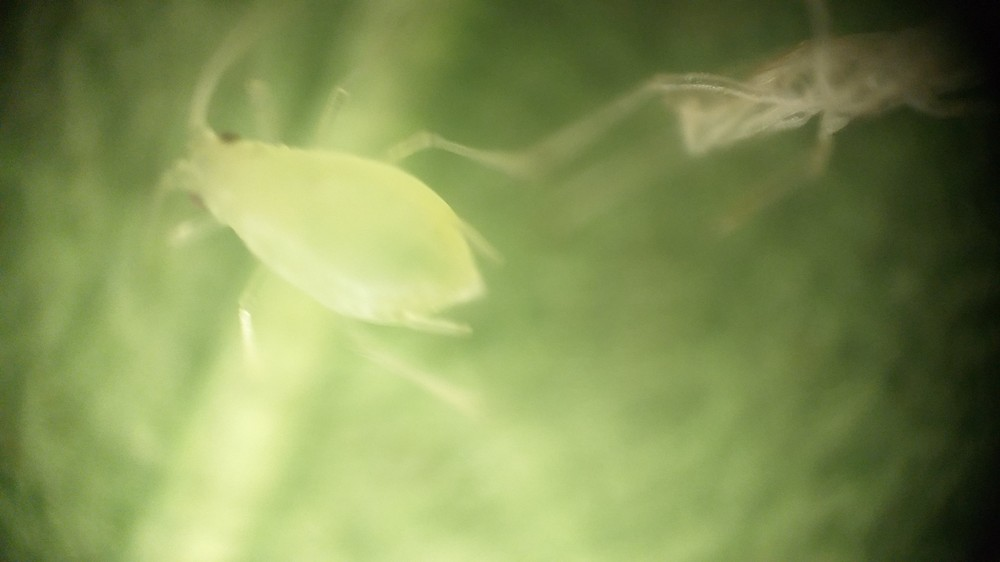Pulgon: (92, 32, 571, 433)
